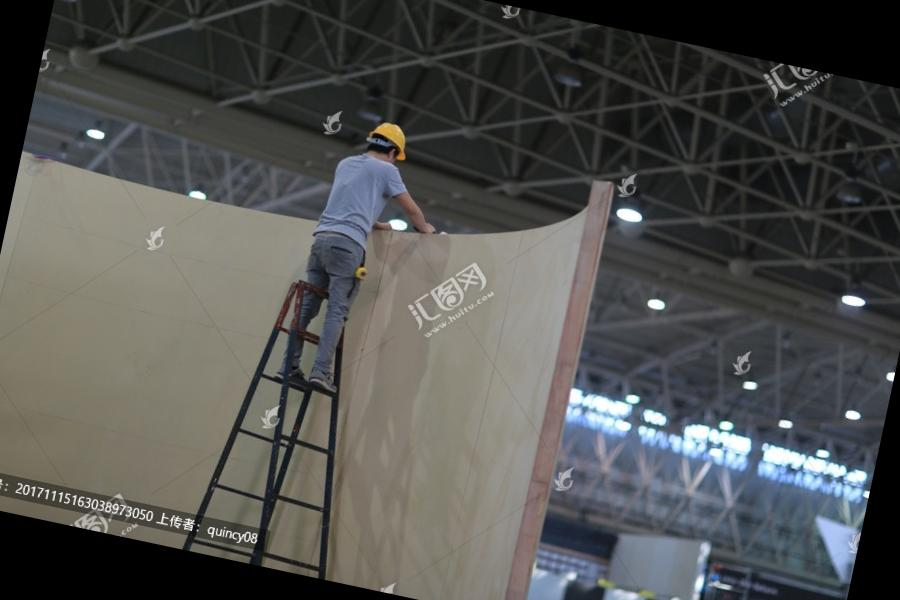helmet: (362, 118, 413, 162)
no_wear: (314, 150, 405, 256)
